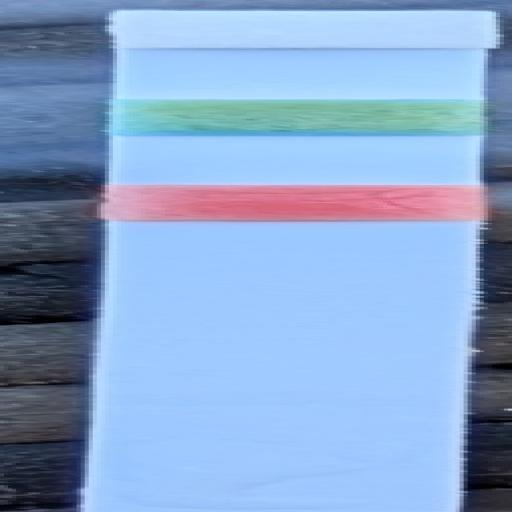pads: (97, 8, 512, 49), (113, 183, 483, 222), (121, 98, 489, 136)
